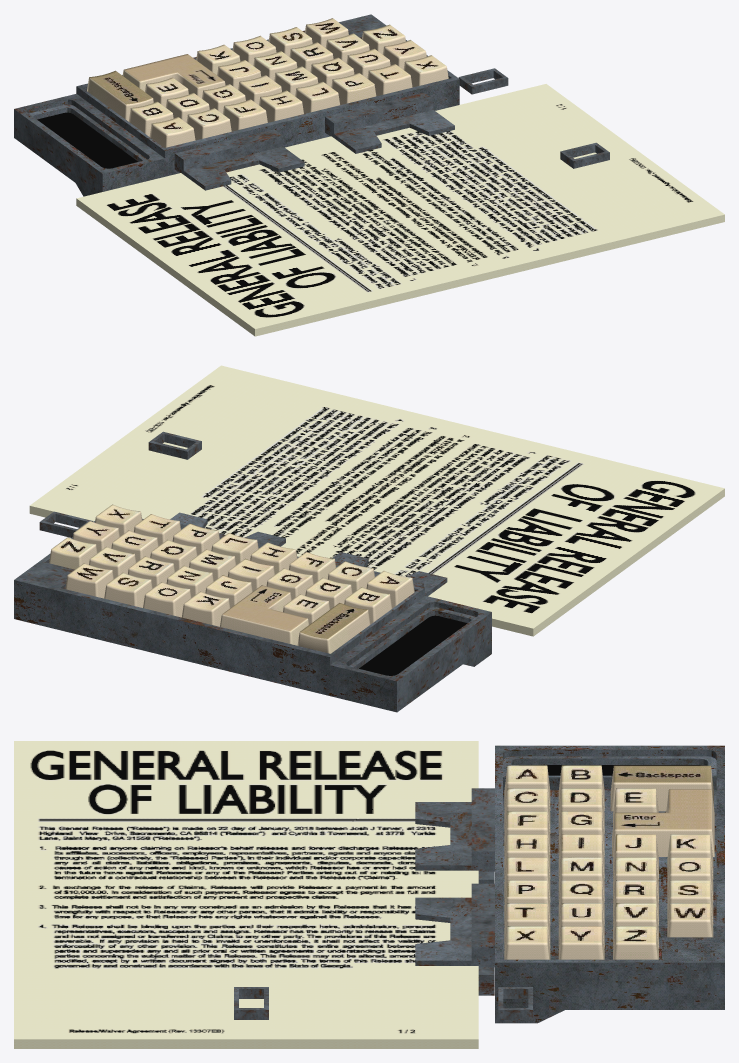
The model's file is signature machine2.glb.
The picture shows the model from 3 angles, top to bottom: view 1: azimuth 30°, elevation 25°; view 2: azimuth 150°, elevation 25°; view 3: azimuth 270°, elevation 25°; orthographic projection. The views are drawn at different scales.
Visible parts, largest first — view 1: release form1_001, Cube_057, Cube_059, Cube_060, Cube_053, Cube_054, Cube_056, Cube_049, Cube_032, Cube_050, Cube_033, Cube_038 (+22 smaller); view 2: release form1_001, Cube_057, Cube_053, Cube_054, Cube_025, Cube_055, Cube_036, Cube_046, Cube_052, Cube_056, Cube_063, Cube_037 (+22 smaller); view 3: release form1_001, Cube_057, Cube_060, Cube_059, Cube_053, Cube_054, Cube_055, Cube_049, Cube_051, Cube_052, Cube_025, Cube_050 (+22 smaller).
Part boxes in pixels (x1,y1,x2,y2): release form1_001: (76, 84, 724, 336); Cube_057: (14, 14, 459, 196); Cube_059: (174, 129, 304, 190); Cube_060: (325, 92, 454, 153); Cube_053: (122, 54, 225, 98); Cube_054: (87, 70, 153, 121); Cube_056: (149, 117, 195, 147); Cube_049: (403, 55, 448, 87); Cube_032: (367, 64, 412, 96); Cube_050: (222, 99, 267, 131); Cube_033: (186, 108, 231, 140); Cube_038: (259, 90, 303, 122); release form1_001: (29, 365, 724, 636); Cube_057: (14, 518, 491, 712); Cube_053: (220, 585, 309, 645); Cube_054: (297, 603, 370, 653); Cube_025: (143, 582, 191, 617); Cube_055: (65, 563, 113, 598); Cube_036: (104, 572, 152, 607); Cube_046: (181, 591, 230, 626); Cube_052: (49, 537, 97, 569); Cube_056: (366, 571, 414, 608); Cube_063: (148, 431, 201, 459); Cube_037: (344, 587, 392, 623); release form1_001: (14, 741, 478, 1048); Cube_057: (495, 745, 724, 1023); Cube_060: (415, 883, 494, 967); Cube_059: (415, 788, 494, 871); Cube_053: (612, 789, 714, 856); Cube_054: (610, 765, 713, 811); Cube_055: (667, 903, 713, 937); Cube_049: (504, 926, 550, 959); Cube_051: (558, 926, 604, 959); Cube_052: (613, 926, 658, 959); Cube_025: (667, 857, 713, 902); Cube_050: (504, 811, 550, 856).
Bounding box in the file's own units: 24.19 × 2.84 × 24.39.
4 materials, 3 textured.
